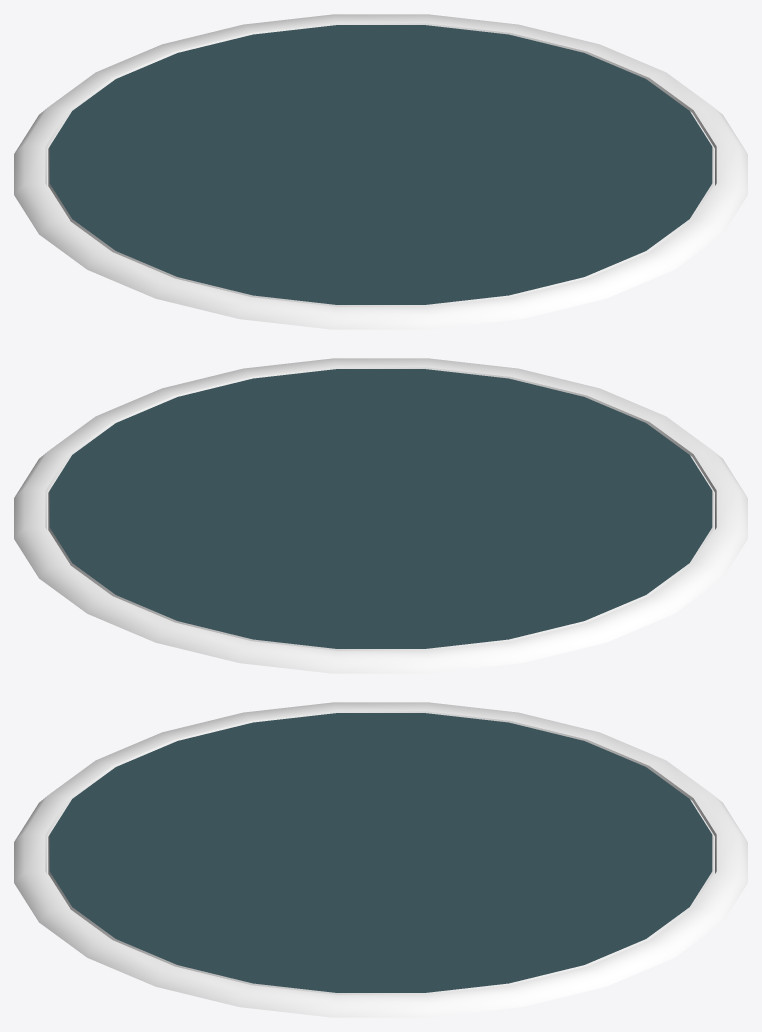
File: arena_a.fbx
The picture shows the model from 3 angles, top to bottom: view 1: azimuth 30°, elevation 25°; view 2: azimuth 150°, elevation 25°; view 3: azimuth 270°, elevation 25°; orthographic projection.
Parts seen in each view (by area): view 1: floor_a, margins_a; view 2: floor_a, margins_a; view 3: floor_a, margins_a.
Boxes of the visible parts, bbox=[...] form: floor_a: bbox=[49, 25, 712, 304]; margins_a: bbox=[14, 14, 747, 329]; floor_a: bbox=[49, 369, 712, 648]; margins_a: bbox=[14, 358, 747, 673]; floor_a: bbox=[49, 713, 712, 992]; margins_a: bbox=[14, 702, 747, 1017].
Bounding box in the file's own units: 17.35 × 0.25 × 17.35.
